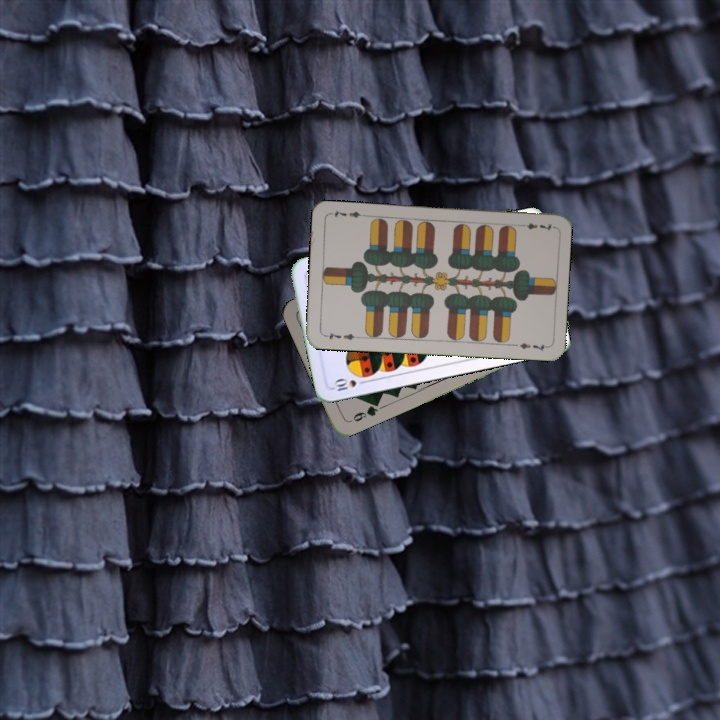E7: (320, 328, 361, 343), (515, 219, 555, 233)
G9: (349, 399, 381, 424)
S10: (329, 375, 370, 394)
